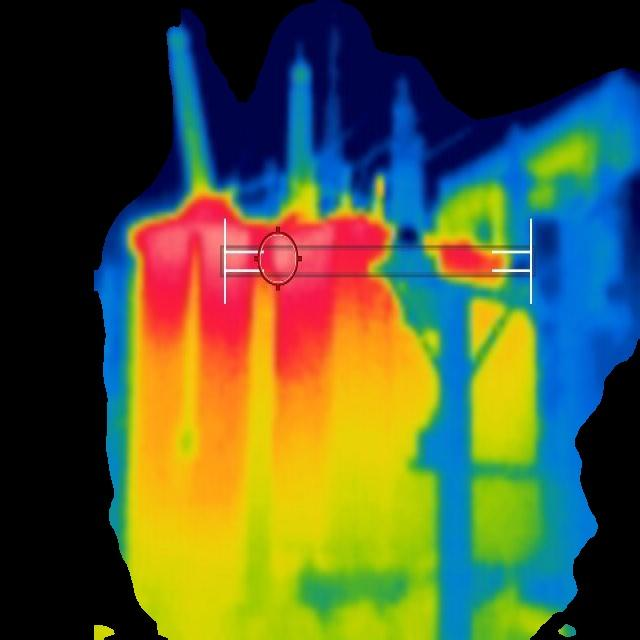Transformer Overload: (122, 190, 538, 639)
